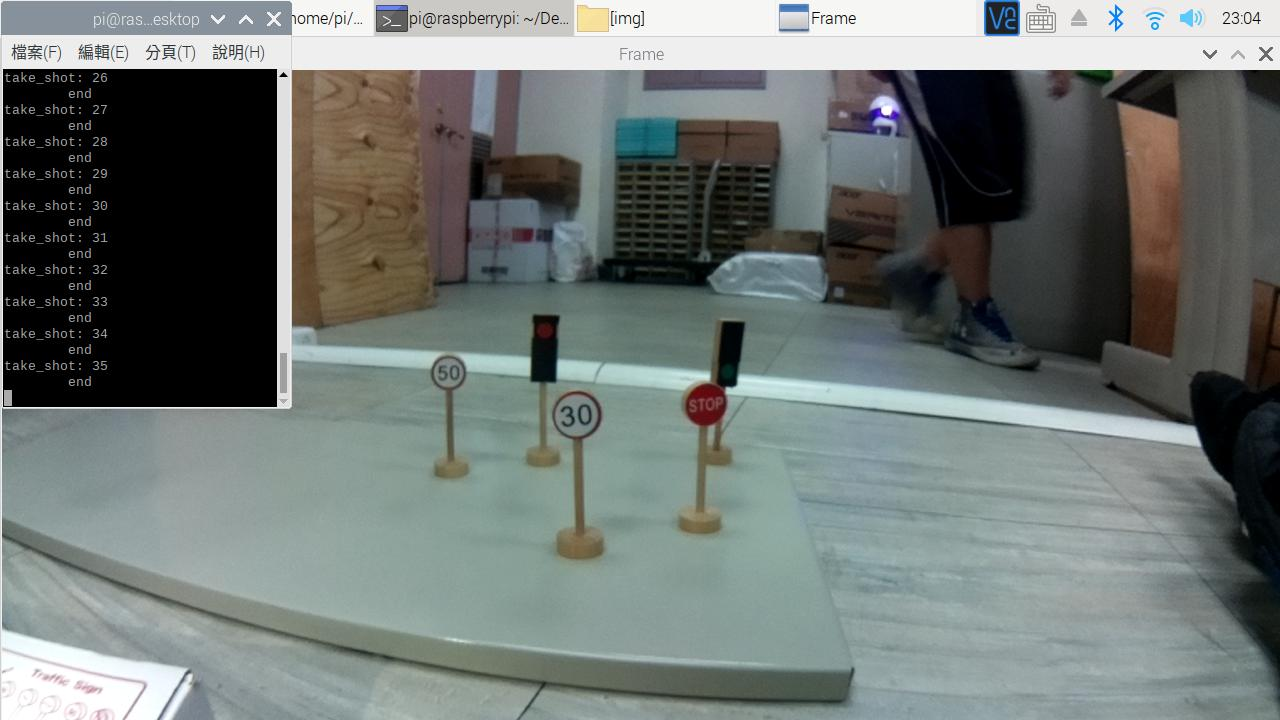Green: (722, 321, 740, 391)
Red: (532, 313, 559, 379)
Speed30: (553, 399, 601, 436)
Speed50: (433, 353, 459, 391)
Stop: (685, 386, 723, 430)
